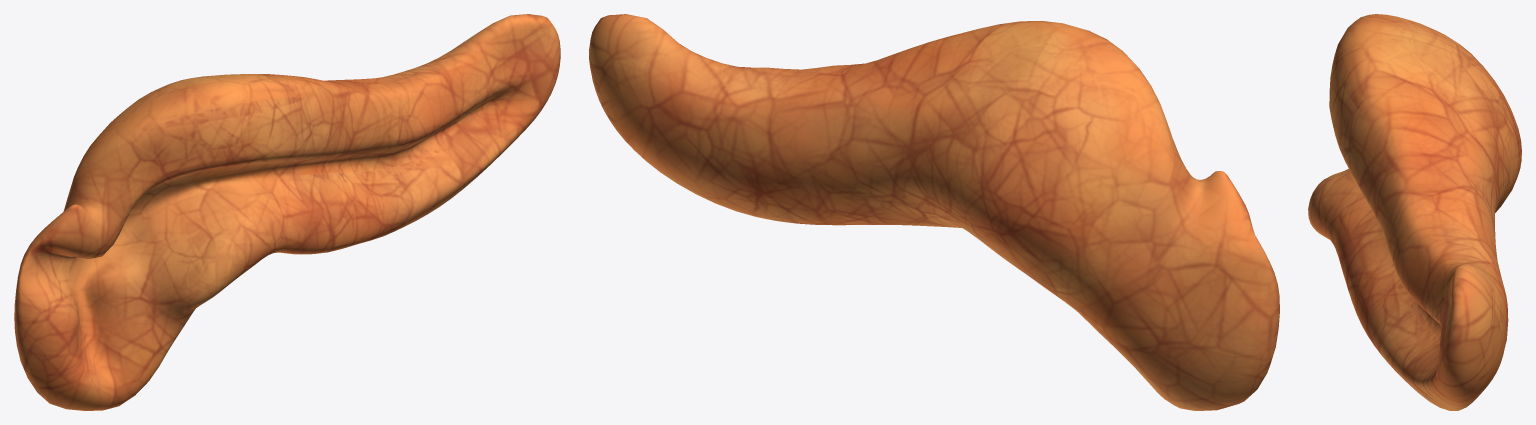
File: pancreas.glb
The picture shows the model from 3 angles, left to right: view 1: azimuth 30°, elevation 25°; view 2: azimuth 150°, elevation 25°; view 3: azimuth 270°, elevation 25°; orthographic projection. The views are drawn at different scales.
Visible parts, largest first — view 1: M0008_Pancreas; view 2: M0008_Pancreas; view 3: M0008_Pancreas.
Boxes of the visible parts, left/top/right/bottom form: M0008_Pancreas: left=14, top=14, right=560, bottom=410; M0008_Pancreas: left=589, top=14, right=1279, bottom=410; M0008_Pancreas: left=1308, top=14, right=1521, bottom=410.
Size of the model in its own units: 0.1527 by 0.0767 by 0.0427.
1 material, 1 textured.
